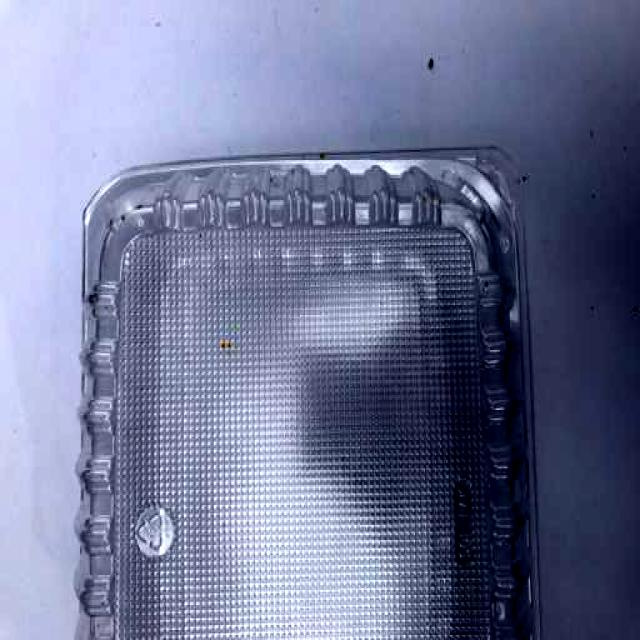Plastic: (77, 146, 543, 640)
